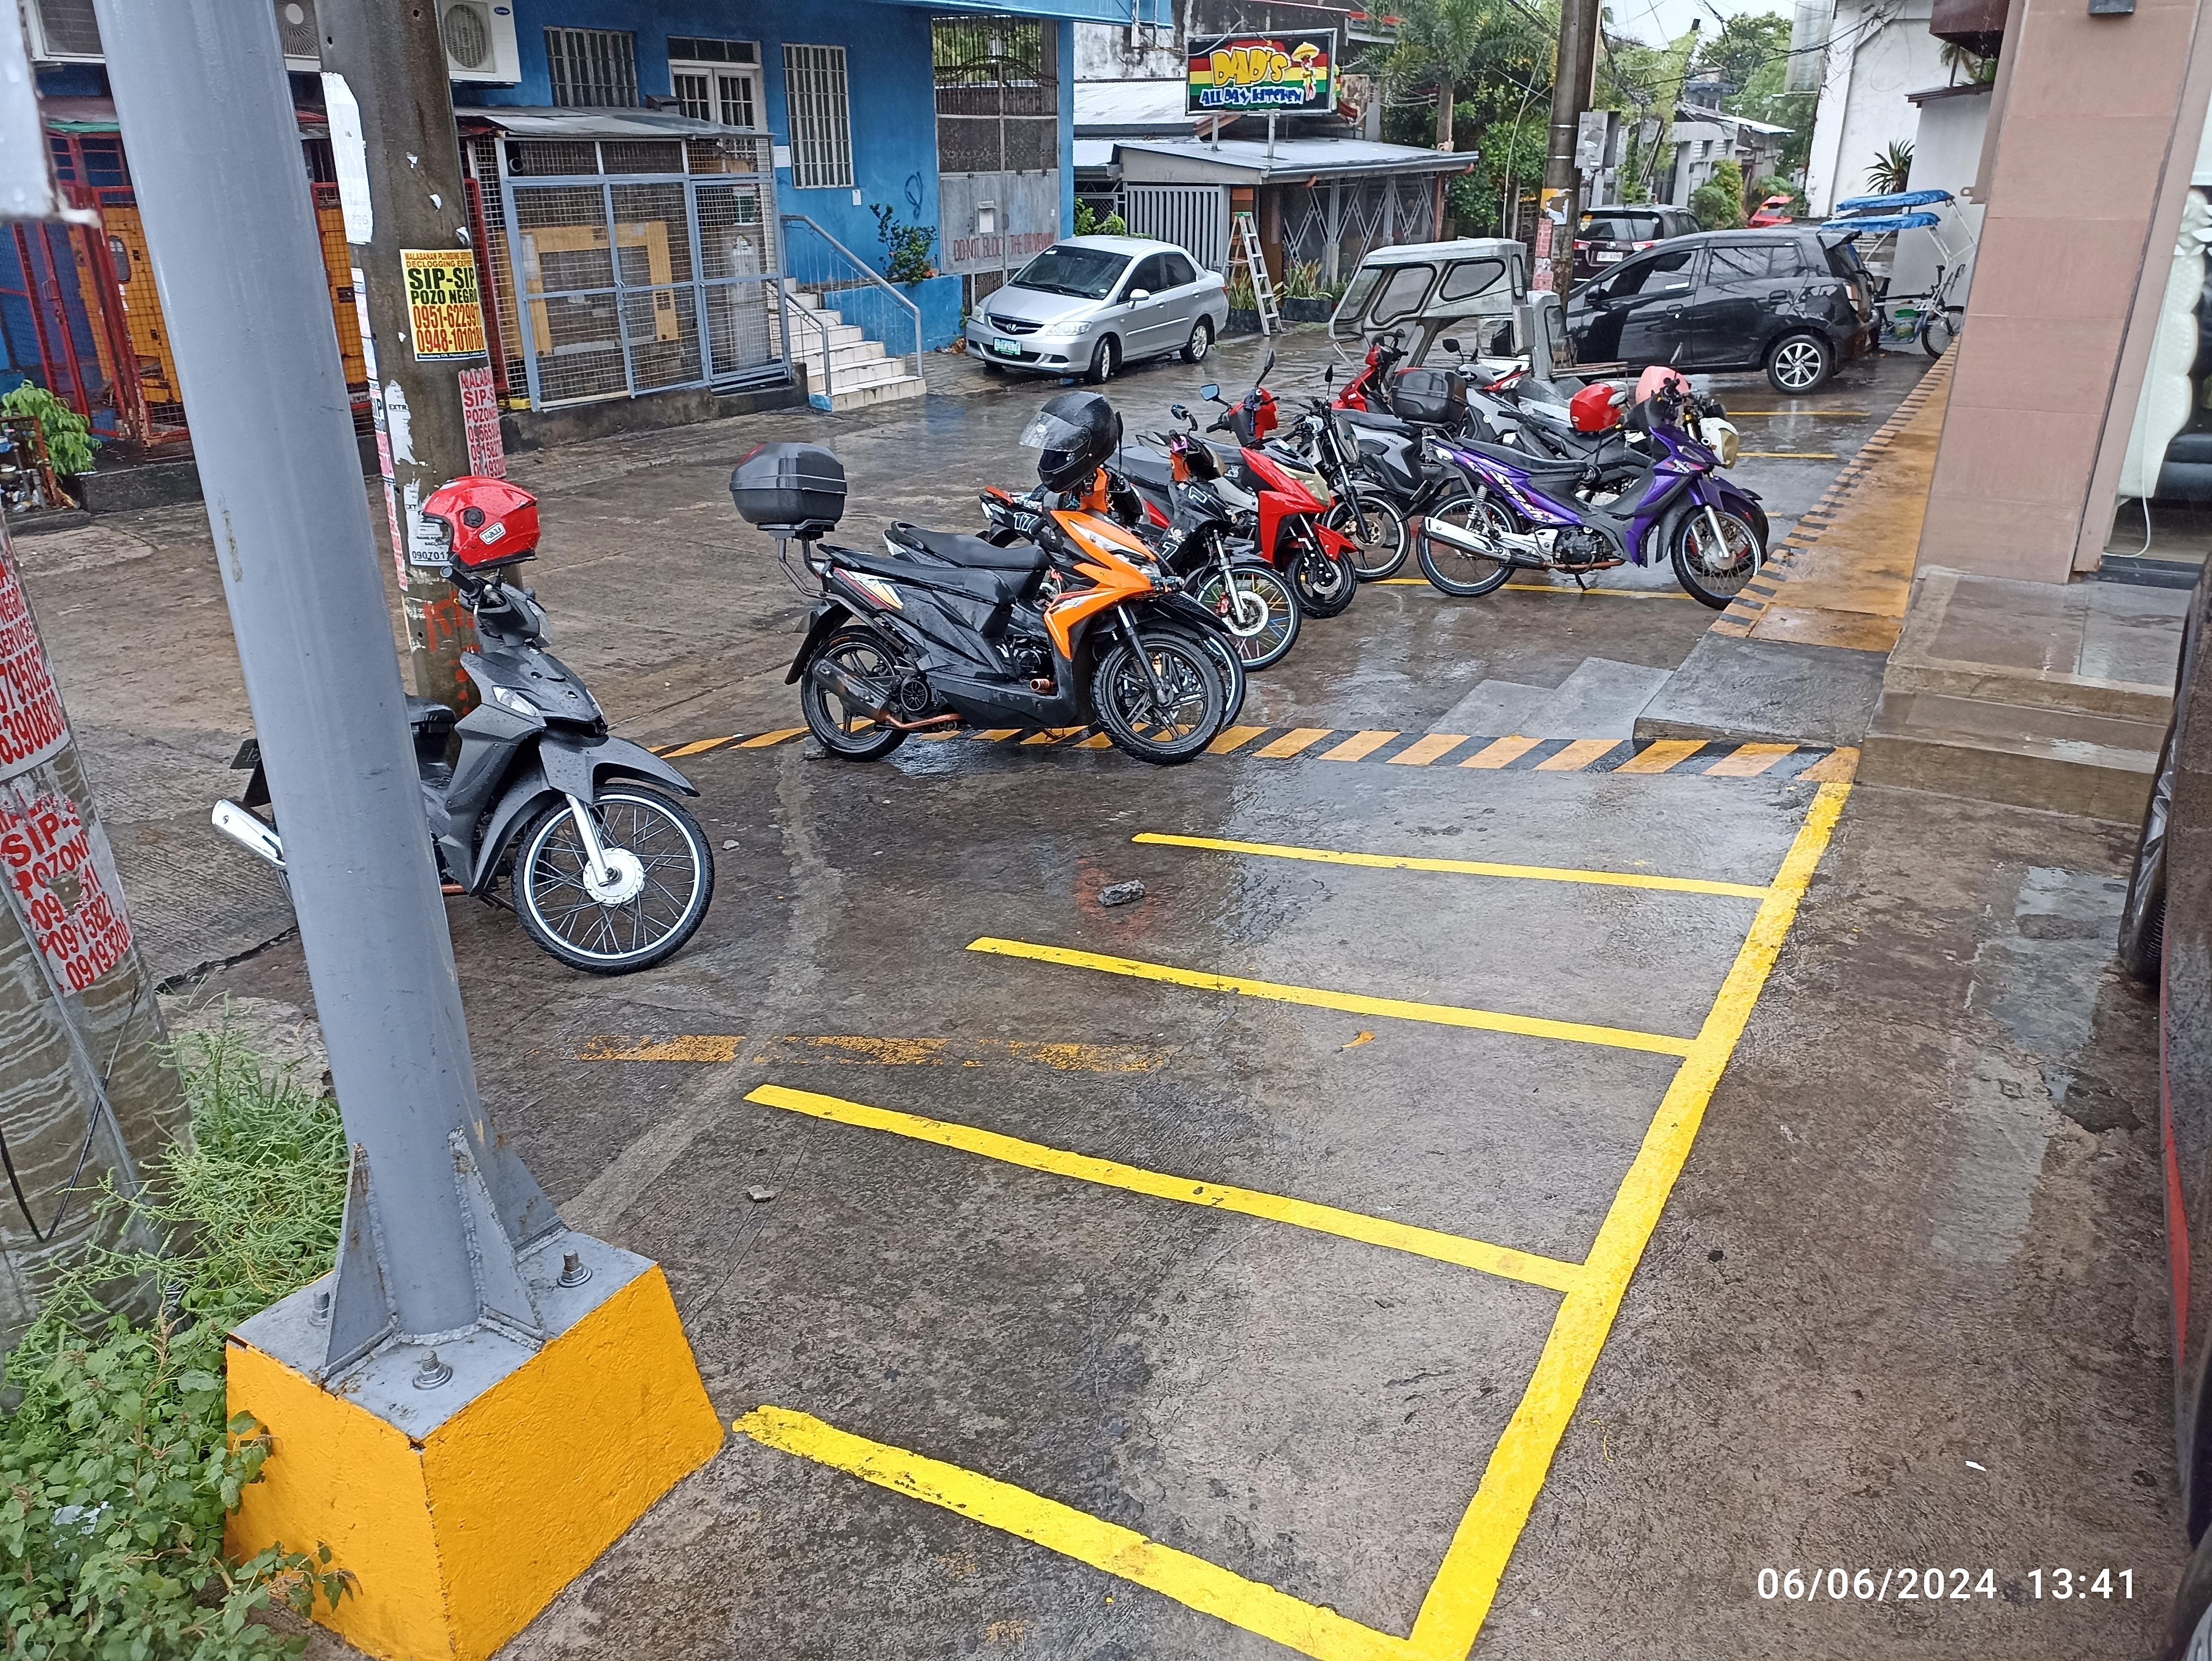vacant: (762, 1092, 1612, 1659), (755, 944, 1704, 1282), (979, 834, 1781, 1050)
